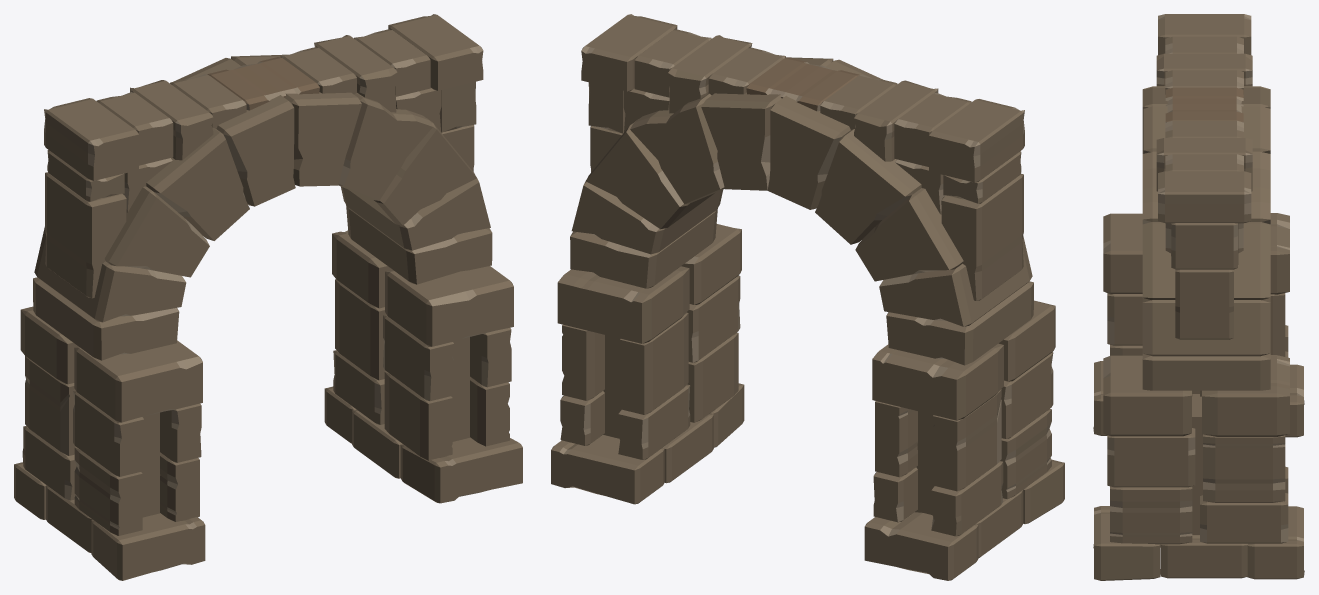
The model's file is Arch.fbx.
3 renders of one model, left to right at view 1: azimuth 30°, elevation 25°; view 2: azimuth 150°, elevation 25°; view 3: azimuth 270°, elevation 25°, orthographic. The views are drawn at different scales.
Visible parts, largest first — view 1: Arch; view 2: Arch; view 3: Arch.
Part boxes in pixels (x1,y1,x2,y2): Arch: [14, 14, 522, 580]; Arch: [551, 14, 1064, 580]; Arch: [1093, 14, 1304, 580].
Bounding box in the file's own units: 2.05 × 2.01 × 0.9926.
